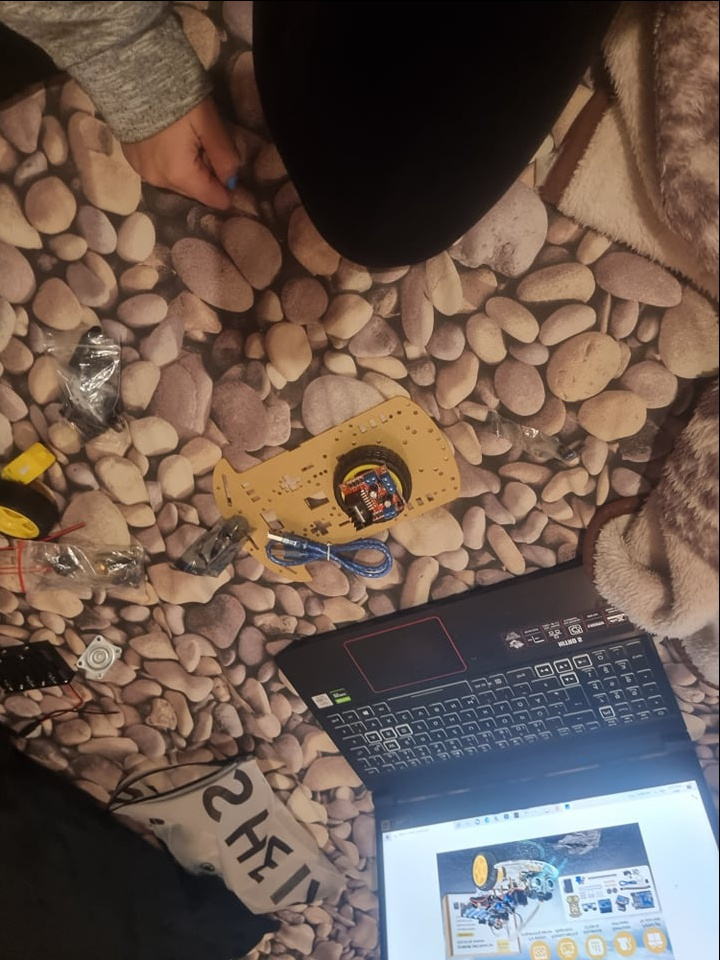BATTERY BOX: (3, 636, 74, 694)
MOTOR: (340, 468, 410, 526)
